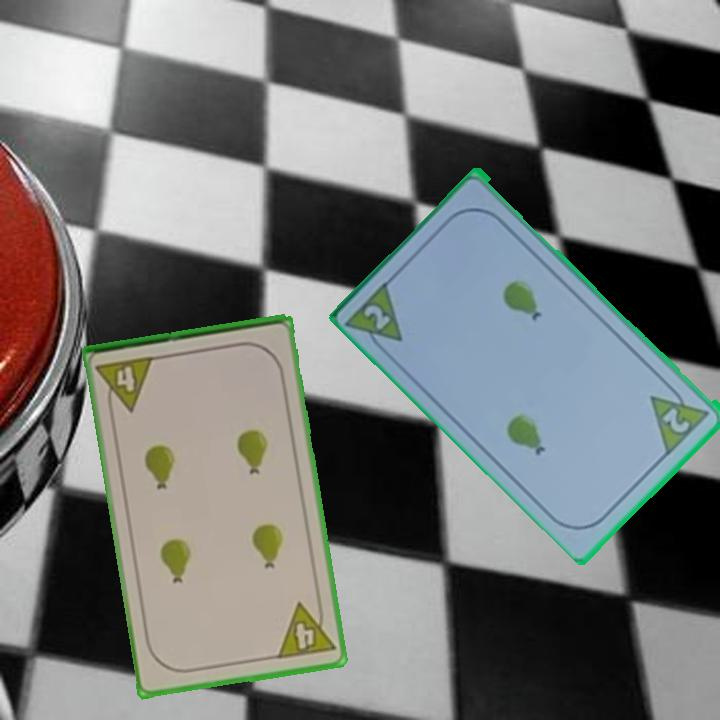2p: (344, 276, 407, 359), (659, 404, 693, 437)
4p: (273, 596, 338, 662), (93, 352, 158, 417)
